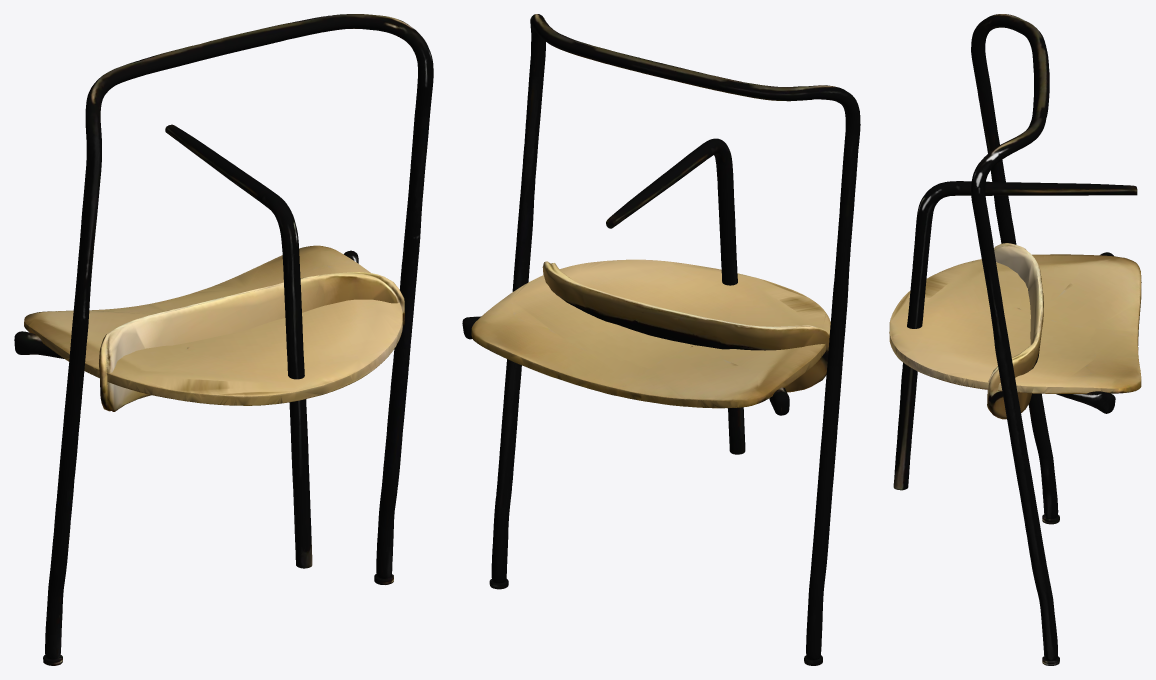
3 renders of one model, left to right at view 1: azimuth 30°, elevation 25°; view 2: azimuth 150°, elevation 25°; view 3: azimuth 270°, elevation 25°, orthographic. The views are drawn at different scales.
Parts seen in each view (by area): view 1: root.0, root.1, root.2, root.3, root.4; view 2: root.0, root.1, root.2, root.3, root.4; view 3: root.0, root.1, root.3, root.2, root.4.
Boxes of the visible parts, box(x1,y1,x2,y2) form: root.0: box(24, 245, 402, 405); root.1: box(43, 14, 433, 665); root.2: box(99, 272, 404, 411); root.3: box(165, 124, 312, 568); root.4: box(14, 250, 358, 358); root.0: box(471, 259, 830, 408); root.1: box(489, 14, 860, 665); root.2: box(542, 261, 829, 392); root.3: box(606, 138, 745, 454); root.4: box(462, 316, 789, 415); root.0: box(889, 254, 1141, 393); root.1: box(971, 14, 1059, 665); root.3: box(893, 181, 1137, 490); root.2: box(987, 243, 1043, 419); root.4: box(1056, 252, 1115, 413).
Size of the model in its own units: 22637 by 36400 by 16172.
1 material, 1 textured.
